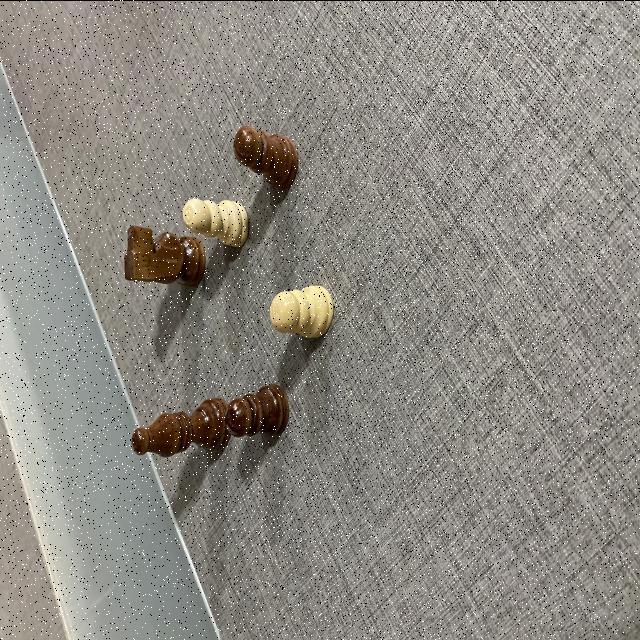Black-Bishop: (131, 397, 229, 457)
Black-Knight: (122, 224, 205, 286)
Black-Pawn: (235, 122, 298, 190), (226, 382, 290, 442)
White-Pawn: (183, 196, 250, 246), (270, 284, 332, 338)
